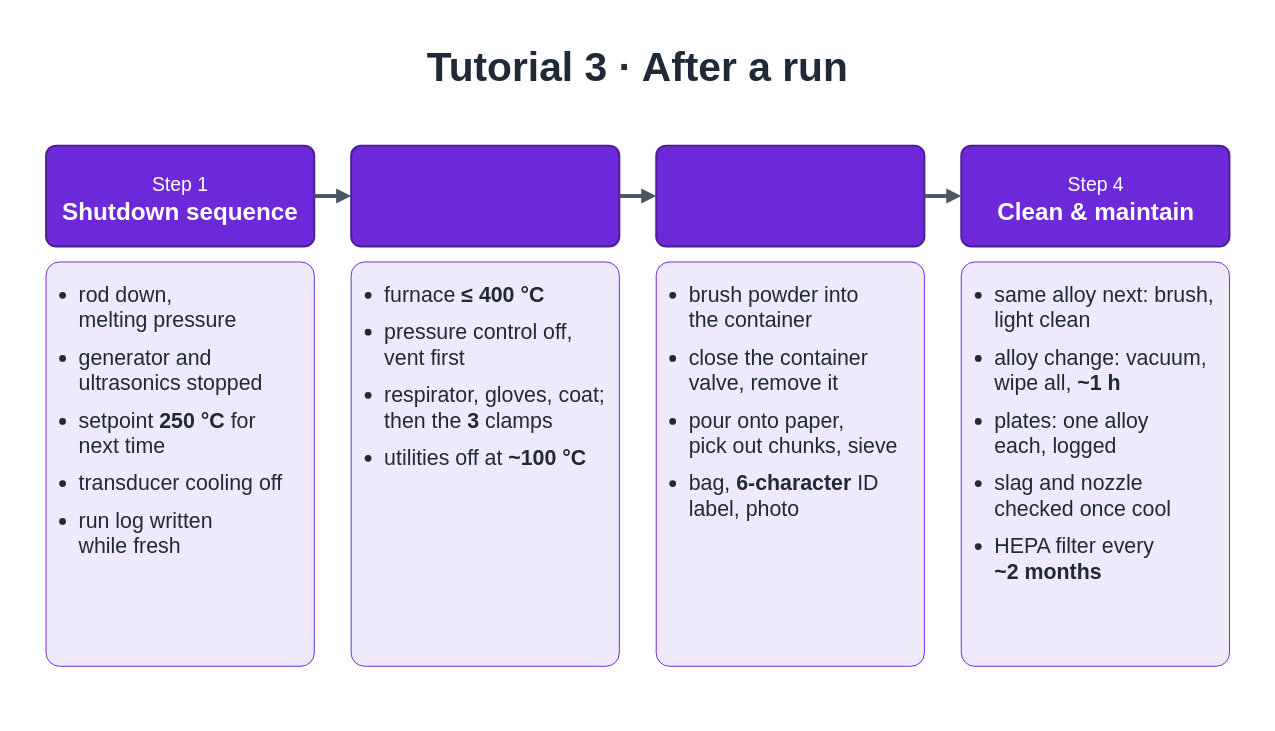
This 1275x731 diagram has some shape labels left out. The centre of each missing label's shape, as x and y in pixels:
Step 2 Cool down & open: [485,195]
Step 3 Collect powder: [790,195]
